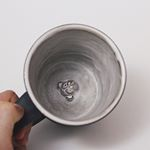cups: (10, 21, 129, 139)
